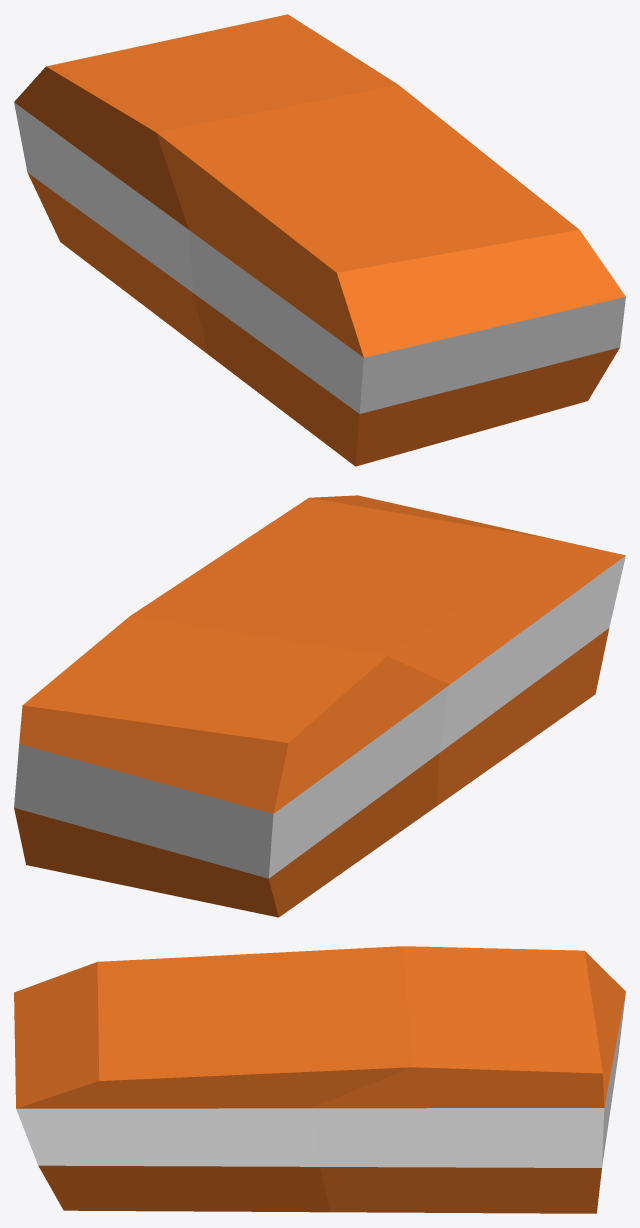
File: DesertRock07.glb
3 views of the same model, one above another, from view 1: azimuth 30°, elevation 25°; view 2: azimuth 150°, elevation 25°; view 3: azimuth 270°, elevation 25° (orthographic). The views are drawn at different scales.
Visible parts, largest first — view 1: DesertRock07; view 2: DesertRock07; view 3: DesertRock07.
Part boxes in pixels (x1=…): DesertRock07: x1=14, y1=14, x2=625, y2=466; DesertRock07: x1=14, y1=495, x2=625, y2=917; DesertRock07: x1=14, y1=946, x2=625, y2=1213.
Size of the model in its own units: 1.78 by 1.16 by 3.97.
Materials: 1 (1 with a texture image).
